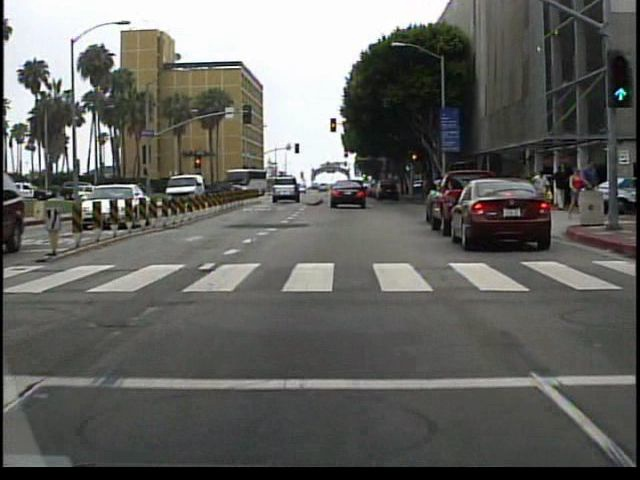person: (578, 160, 600, 222), (566, 164, 585, 223), (531, 168, 551, 215), (550, 165, 567, 213)
